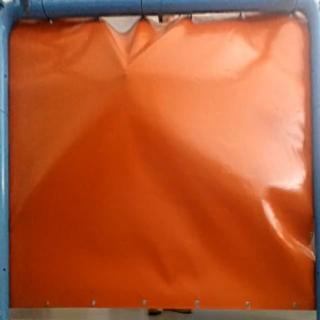Hit-hRxx: (118, 63, 136, 83)
